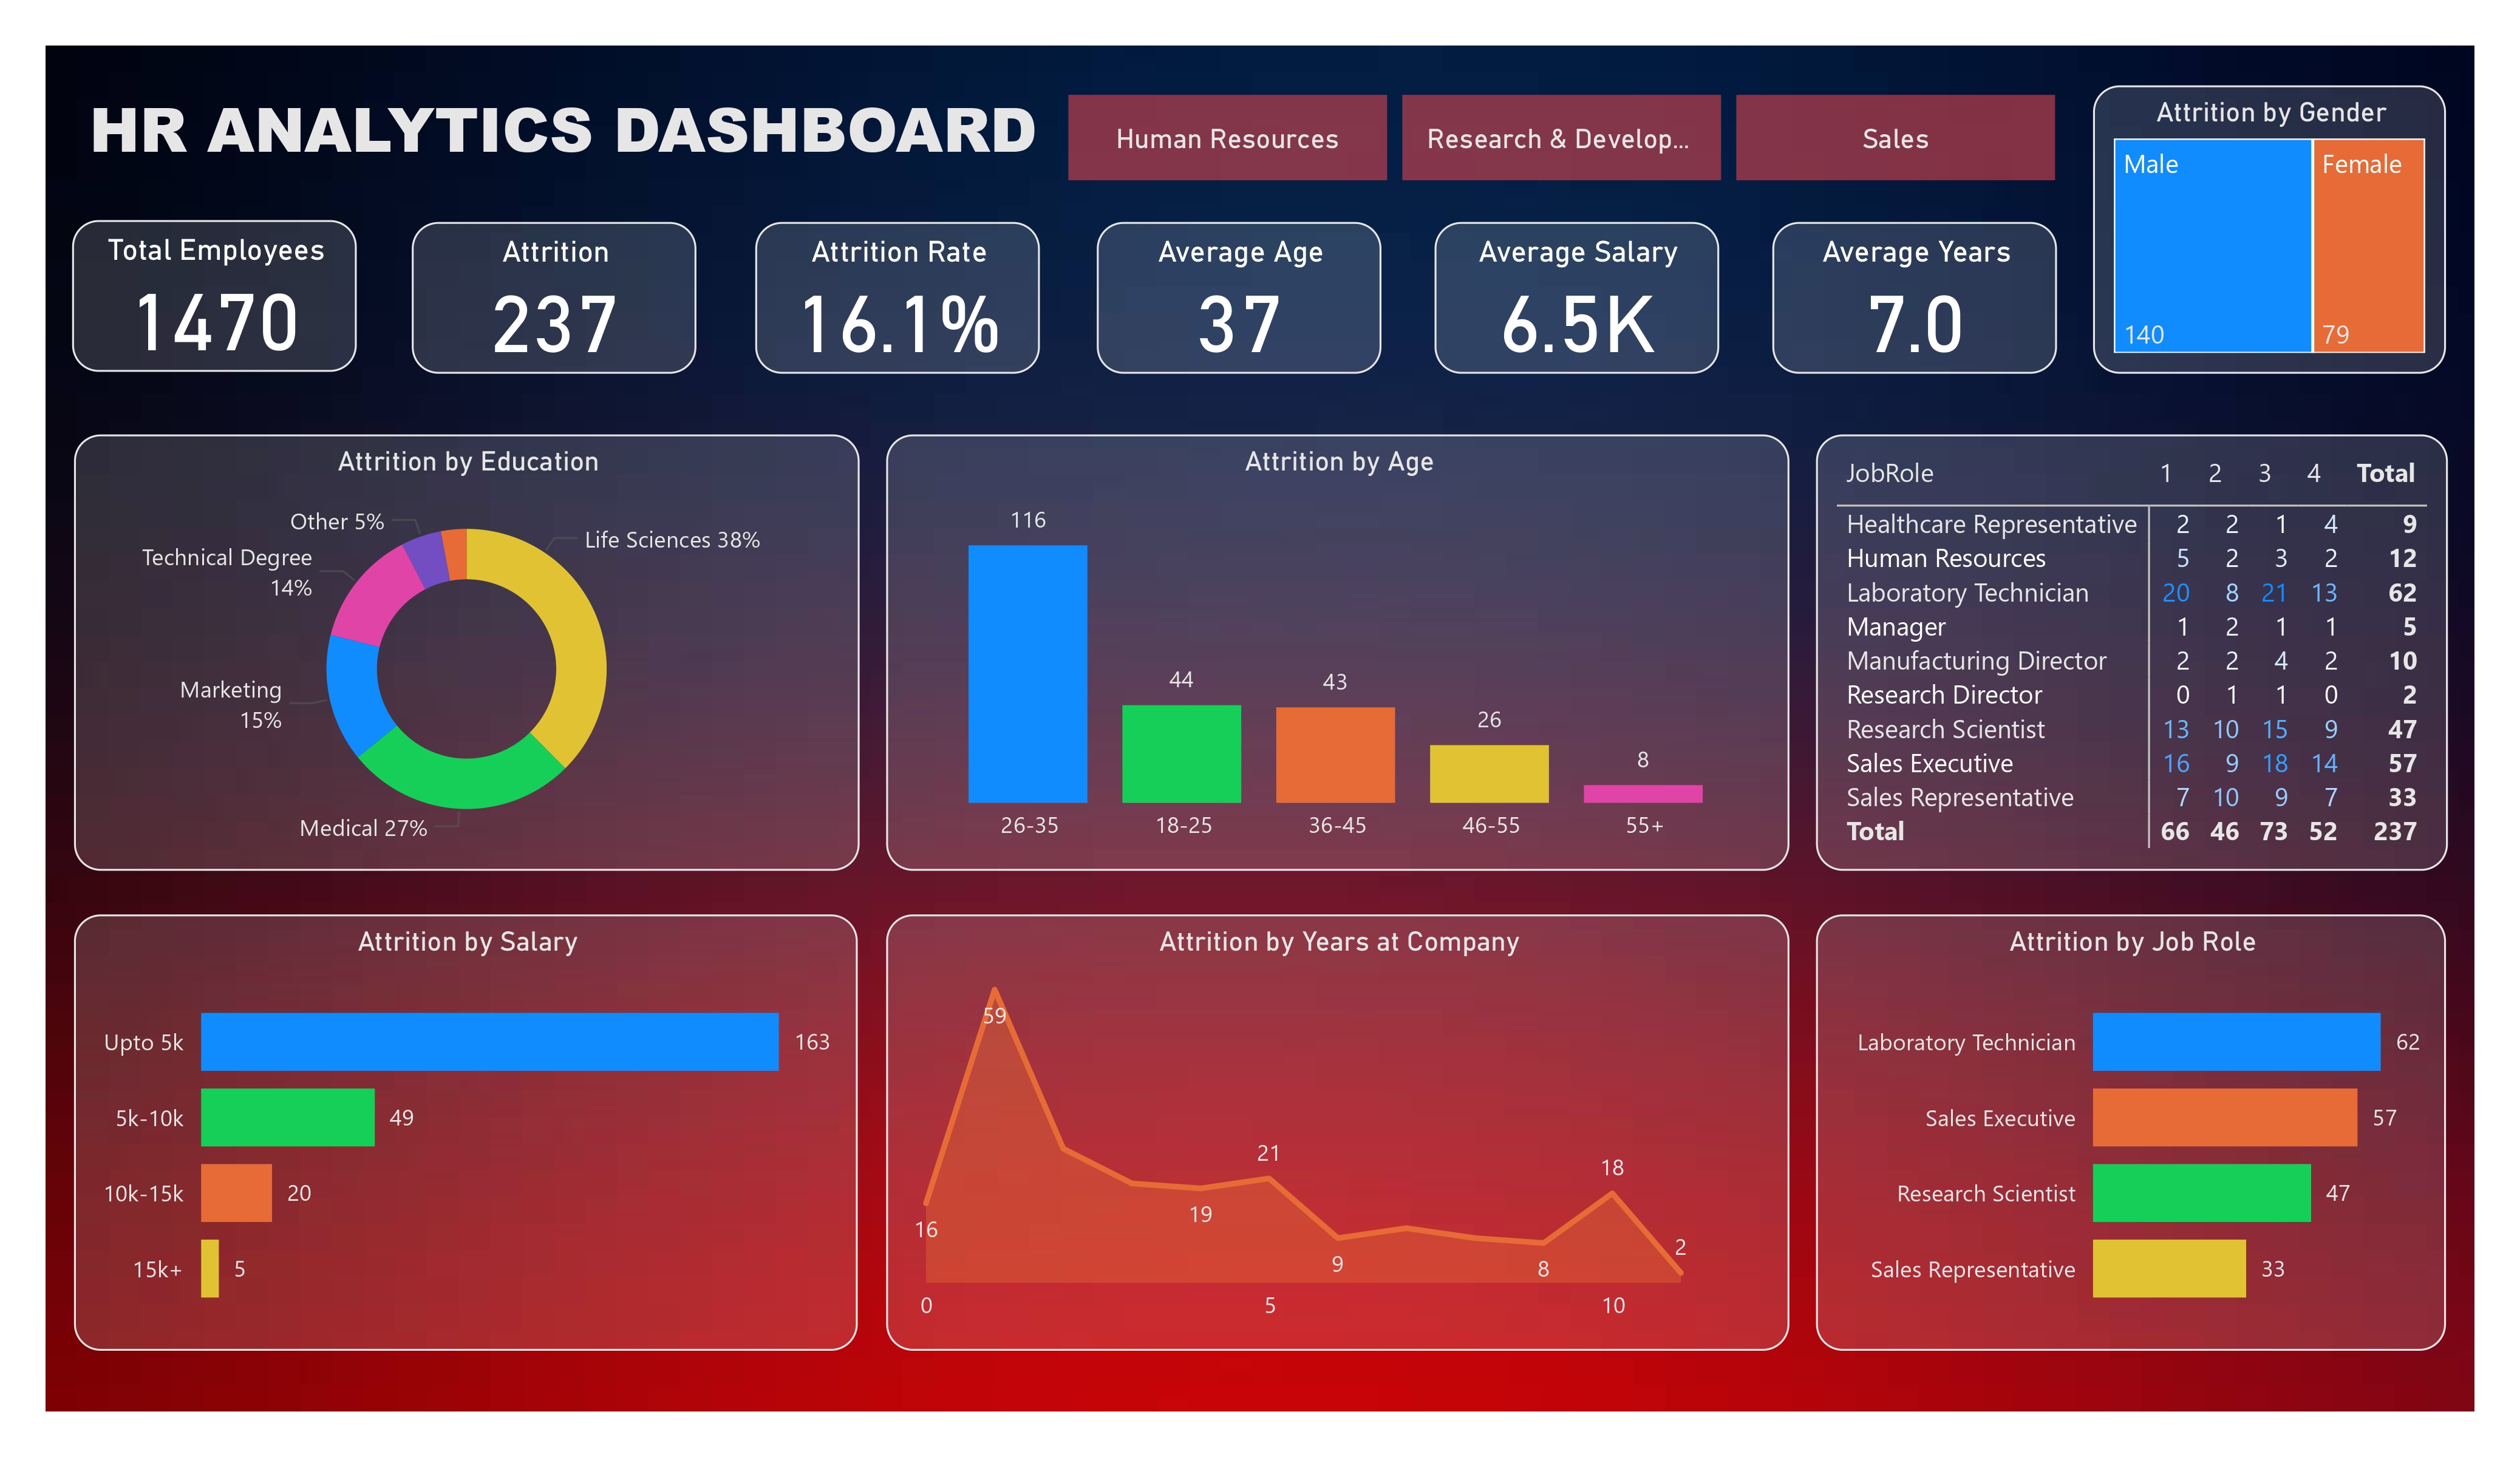

The page's visual inventory and layout, read from the dashboard file:
{"tool":"powerbi","page":{"name":"Page 1","canvas":[1280,720],"ordinal":0},"visuals":[{"type":"card","title":"Total Employees","fields":{"Values":["CountNonNull(HR_Analytics.EmpID)"]},"box":[13.7,92.3,150,80],"z":0},{"type":"card","title":"Attrition","fields":{"Values":["Sum(HR_Analytics.AttritionCount)"]},"box":[192.5,92.5,150,80],"z":1000},{"type":"card","title":"Average Age","fields":{"Values":["Avg(HR_Analytics.Age)"]},"box":[553.8,92.5,150,80],"z":2000},{"type":"card","title":"Attrition Rate","fields":{"Values":["HR_Analytics.AttritionRate"]},"box":[373.8,92.5,150,80],"z":3000},{"type":"card","title":"Average Years","fields":{"Values":["Avg(HR_Analytics.YearsAtCompany)"]},"box":[909.6,92.6,150,80],"z":4000},{"type":"card","title":"Average Salary","fields":{"Values":["Avg(HR_Analytics.MonthlyIncome)"]},"box":[732.1,92.6,150,80],"z":5000},{"type":"donutChart","title":"Attrition by Education","fields":{"Category":["HR_Analytics.EducationField"],"Y":["Sum(HR_Analytics.AttritionCount)"]},"box":[15,205,413.8,230],"z":6000},{"type":"columnChart","title":"Attrition by Age","fields":{"Category":["HR_Analytics.AgeGroup"],"Y":["Sum(HR_Analytics.AttritionCount)"]},"box":[442.5,205,476.2,230],"z":7000},{"type":"pivotTable","fields":{"Rows":["HR_Analytics.JobRole"],"Columns":["HR_Analytics.JobSatisfaction"],"Values":["Sum(HR_Analytics.AttritionCount)"]},"box":[932.5,204.6,333,230],"z":8000},{"type":"barChart","title":"Attrition by Salary","fields":{"Y":["Sum(HR_Analytics.AttritionCount)"],"Category":["HR_Analytics.SalarySlab"]},"box":[15,457.5,412.5,230],"z":9000},{"type":"barChart","title":"Attrition by Job Role","fields":{"Y":["Sum(HR_Analytics.AttritionCount)"],"Category":["HR_Analytics.JobRole"]},"box":[932.5,457.5,332.5,230],"z":10000},{"type":"areaChart","title":"Attrition by Years at Company","fields":{"Category":["HR_Analytics.YearsAtCompany"],"Y":["Sum(HR_Analytics.AttritionCount)"]},"box":[442.5,457.5,476.2,230],"z":11000},{"type":"treemap","title":"Attrition by Gender","fields":{"Group":["HR_Analytics.Gender"],"Values":["Sum(HR_Analytics.AttritionCount)"]},"box":[1078.8,21.2,186.2,151.2],"z":12000},{"type":"advancedSlicerVisual","fields":{"Values":["HR_Analytics.Department"]},"box":[534,21,531,55],"z":13000},{"type":"textbox","box":[18.3,15.9,541.5,59.8],"z":14000}]}

Visuals, with their boxes in screenshot pixels (x1, y1, x2, y2):
"Total Employees" card: box=[39, 186, 331, 341]
"Attrition" card: box=[387, 186, 678, 341]
"Average Age" card: box=[1088, 186, 1380, 341]
"Attrition Rate" card: box=[739, 186, 1030, 341]
"Average Years" card: box=[1779, 186, 2071, 342]
"Average Salary" card: box=[1434, 186, 1726, 342]
"Attrition by Education" donutChart: box=[43, 404, 846, 851]
"Attrition by Age" columnChart: box=[872, 404, 1797, 851]
pivotTable - HR_Analytics.JobRole x HR_Analytics.JobSatisfaction: box=[1824, 404, 2470, 850]
"Attrition by Salary" barChart: box=[43, 895, 843, 1341]
"Attrition by Job Role" barChart: box=[1824, 895, 2469, 1341]
"Attrition by Years at Company" areaChart: box=[872, 895, 1797, 1341]
"Attrition by Gender" treemap: box=[2108, 48, 2469, 341]
advancedSlicerVisual - HR_Analytics.Department: box=[1050, 47, 2081, 154]
textbox: box=[49, 38, 1100, 154]
